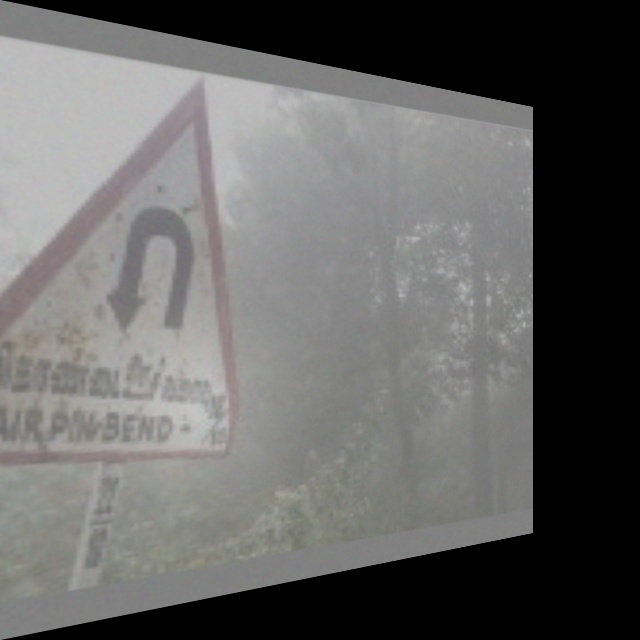Left_Hair_Pin_Bend: (19, 110, 245, 362)
